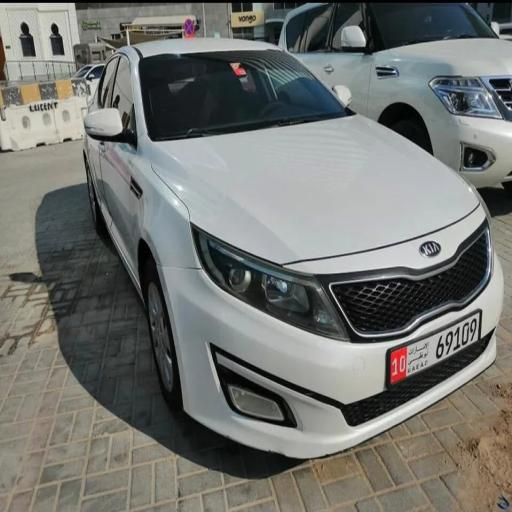license-plates: (390, 311, 480, 384)
